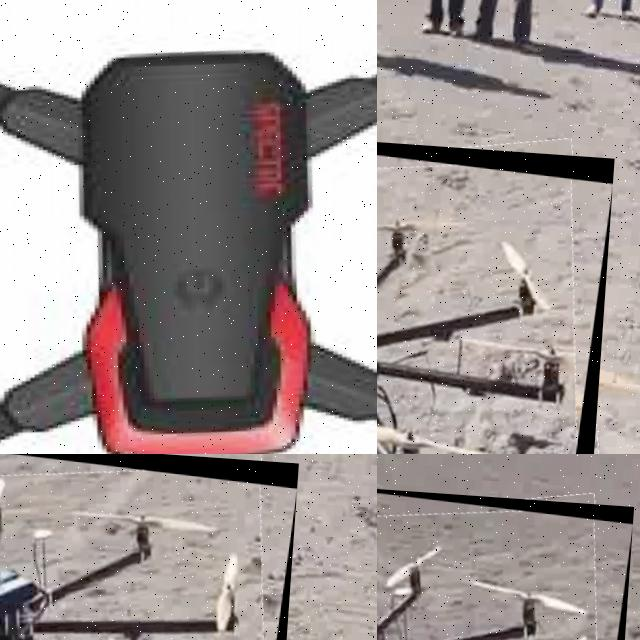drone: (0, 0, 377, 454), (377, 124, 614, 454), (0, 454, 298, 640), (377, 482, 633, 640)
